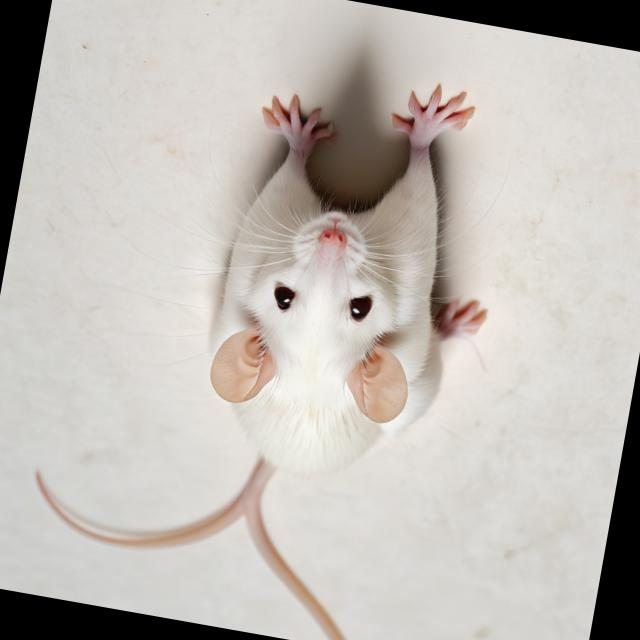rodents: (172, 75, 501, 506)
